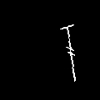treble_crochet: (62, 25, 75, 80)
